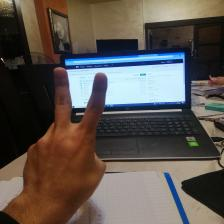two: (24, 64, 114, 207)
